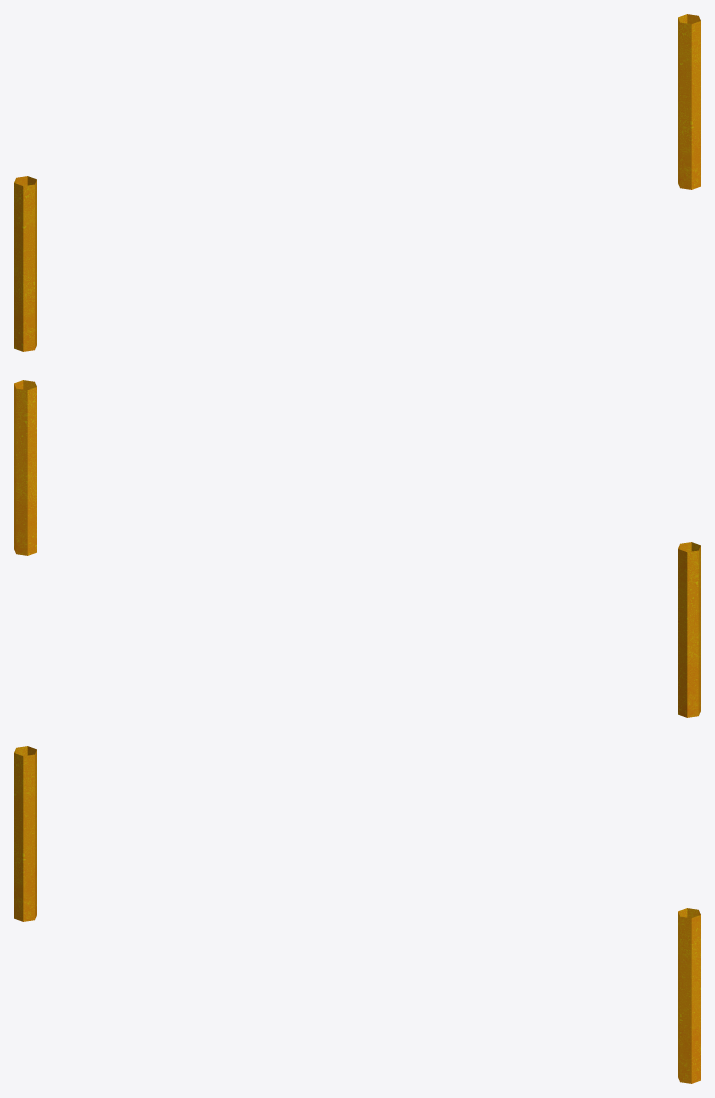
File: FacilityPillar_01_SM_Low.fbx
3 views of the same model, one above another, from view 1: azimuth 30°, elevation 25°; view 2: azimuth 150°, elevation 25°; view 3: azimuth 330°, elevation 25° (orthographic).
Parts seen in each view (by area): view 1: facility_pillar_01_geo; view 2: facility_pillar_01_geo; view 3: facility_pillar_01_geo.
Part boxes in pixels (box(x1,y1,x2,y2)): facility_pillar_01_geo: box(14, 14, 700, 351); facility_pillar_01_geo: box(14, 380, 700, 717); facility_pillar_01_geo: box(14, 746, 700, 1083).
Bounding box in the file's own units: 1996 × 461 × 58.34.
Materials: 1 (1 with a texture image).
